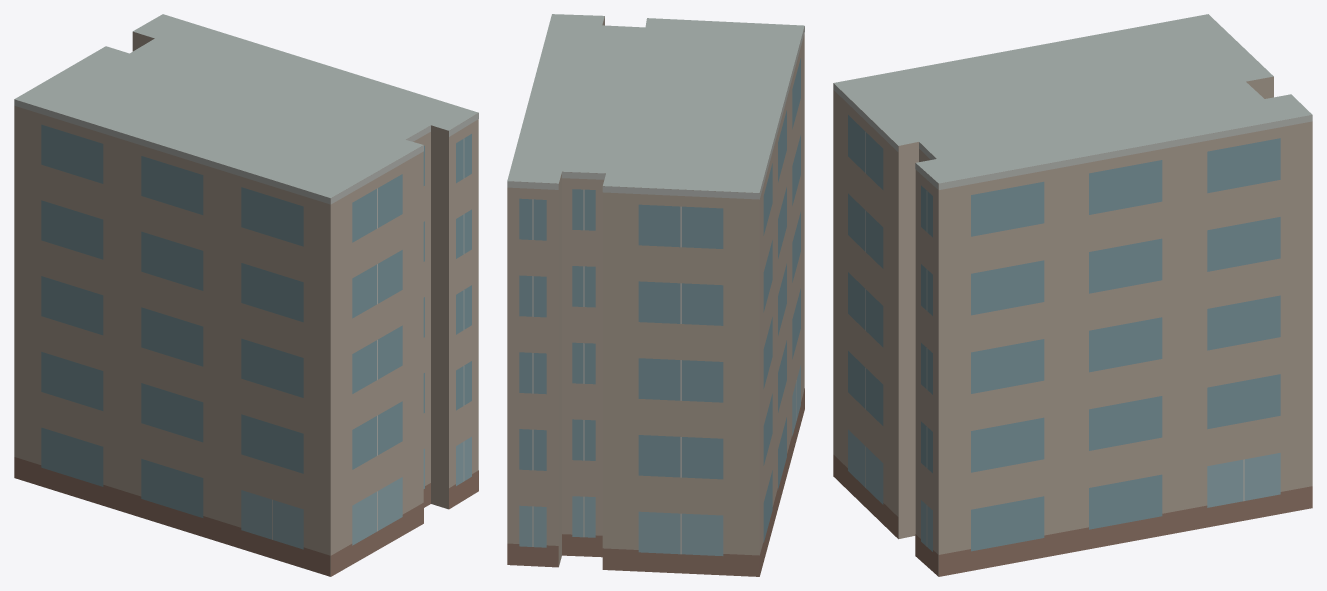
Rendered from survey-upis-32731850.glb.
3 views of the same model, side by side, from view 1: azimuth 30°, elevation 25°; view 2: azimuth 150°, elevation 25°; view 3: azimuth 270°, elevation 25° (orthographic). The views are drawn at different scales.
Visible parts, largest first — view 1: survey-upis-32731850.tmp; view 2: survey-upis-32731850.tmp; view 3: survey-upis-32731850.tmp.
Boxes of the visible parts, left/top/right/bottom form: survey-upis-32731850.tmp: left=14, top=14, right=478, bottom=576; survey-upis-32731850.tmp: left=507, top=14, right=804, bottom=576; survey-upis-32731850.tmp: left=833, top=14, right=1312, bottom=576.
Size of the model in its own units: 13.47 by 14.55 by 16.08.
